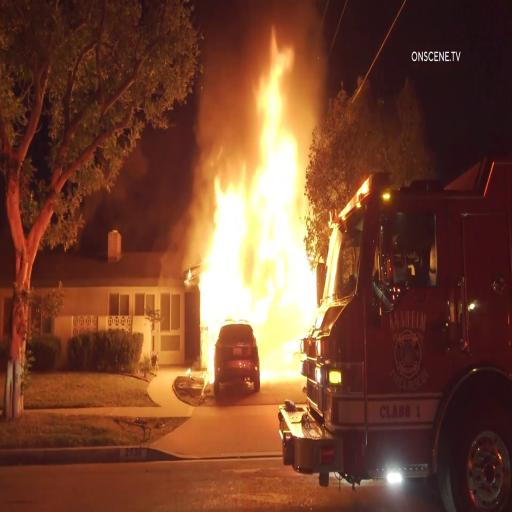fire: (225, 76, 292, 326), (250, 6, 288, 380), (201, 168, 247, 318)
smoke: (133, 130, 179, 259), (300, 4, 340, 113), (190, 6, 244, 71)
